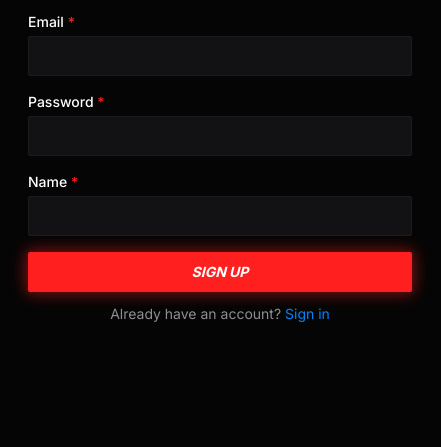
Scenario: SignUpForm › shows a supabase password rejection instead of the generic account error
Type "member@example.com" into the field labelled "Email". click: (220, 56)
box: [28, 36, 412, 76]
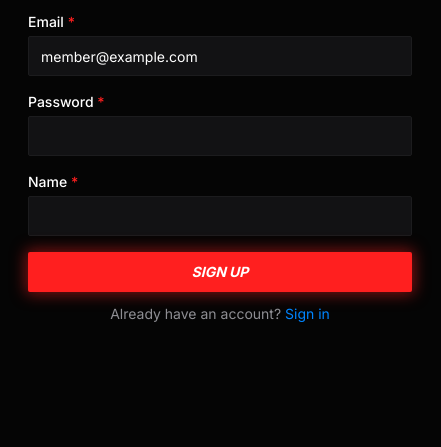
Type "strong-password-123" into the password field labelled "Password *". click: (220, 136)
box: [28, 116, 412, 156]
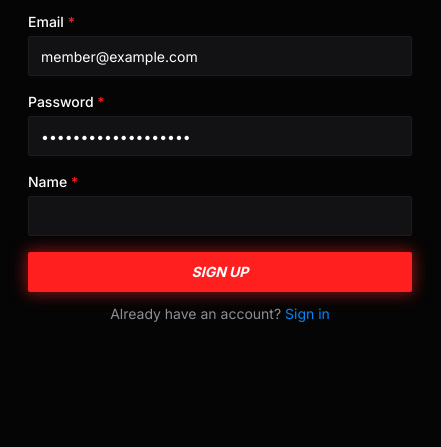
Type "Test Member" into the field labelled "Name". click: (220, 216)
box: [28, 196, 412, 236]
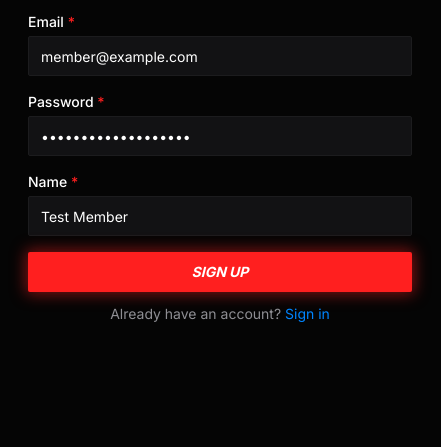
Click the button "Sign up". click: (220, 272)
box: [28, 252, 412, 292]
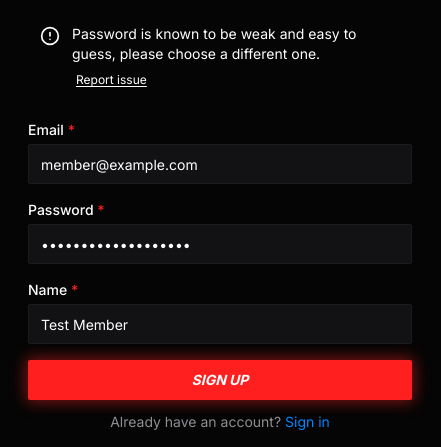
Expected: the text "Password is known to be weak and easy to guess, please choose a different one." is shown, [72, 24, 400, 64]
